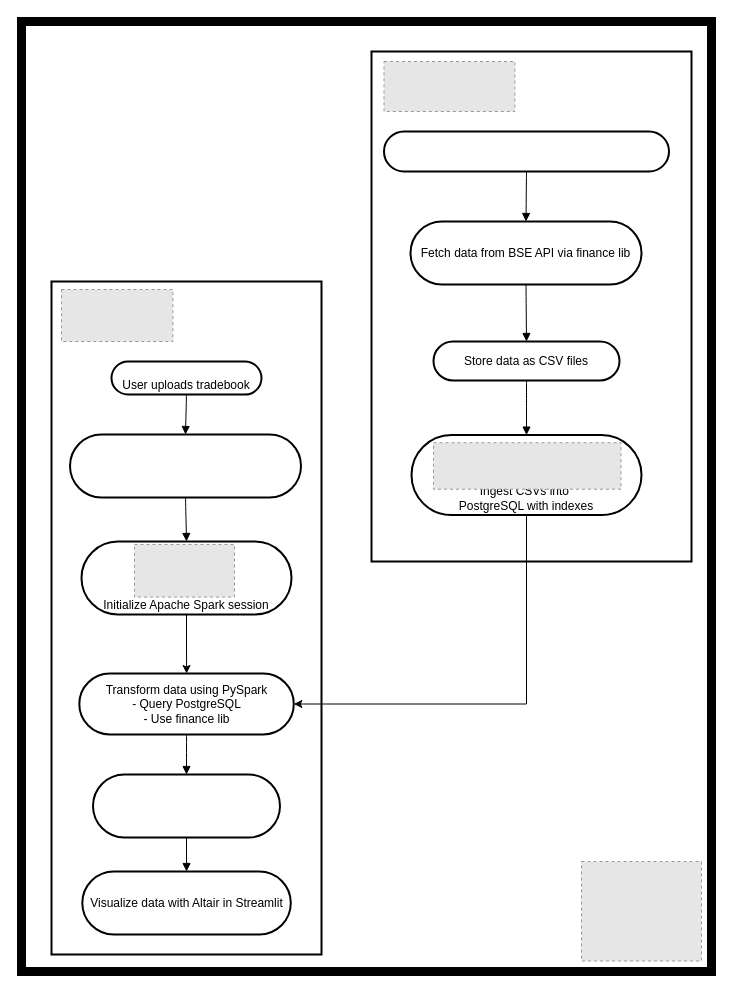
Some shapes in this 733 by 993 pixel diagram are drawn without their labels. Grey dashed boxes stand in for pictures. The shapes that lost their labels are listed below. From the top down, each one's box as (x1, y1, x2, y2) in pixels, then its label:
(382, 130, 670, 172): Airflow DAG: get_securities_from_bse.py - scheduled monthly
(68, 433, 302, 498): Temporarily store uploaded file
(92, 773, 280, 838): Compute financial metrics - Use historical data
